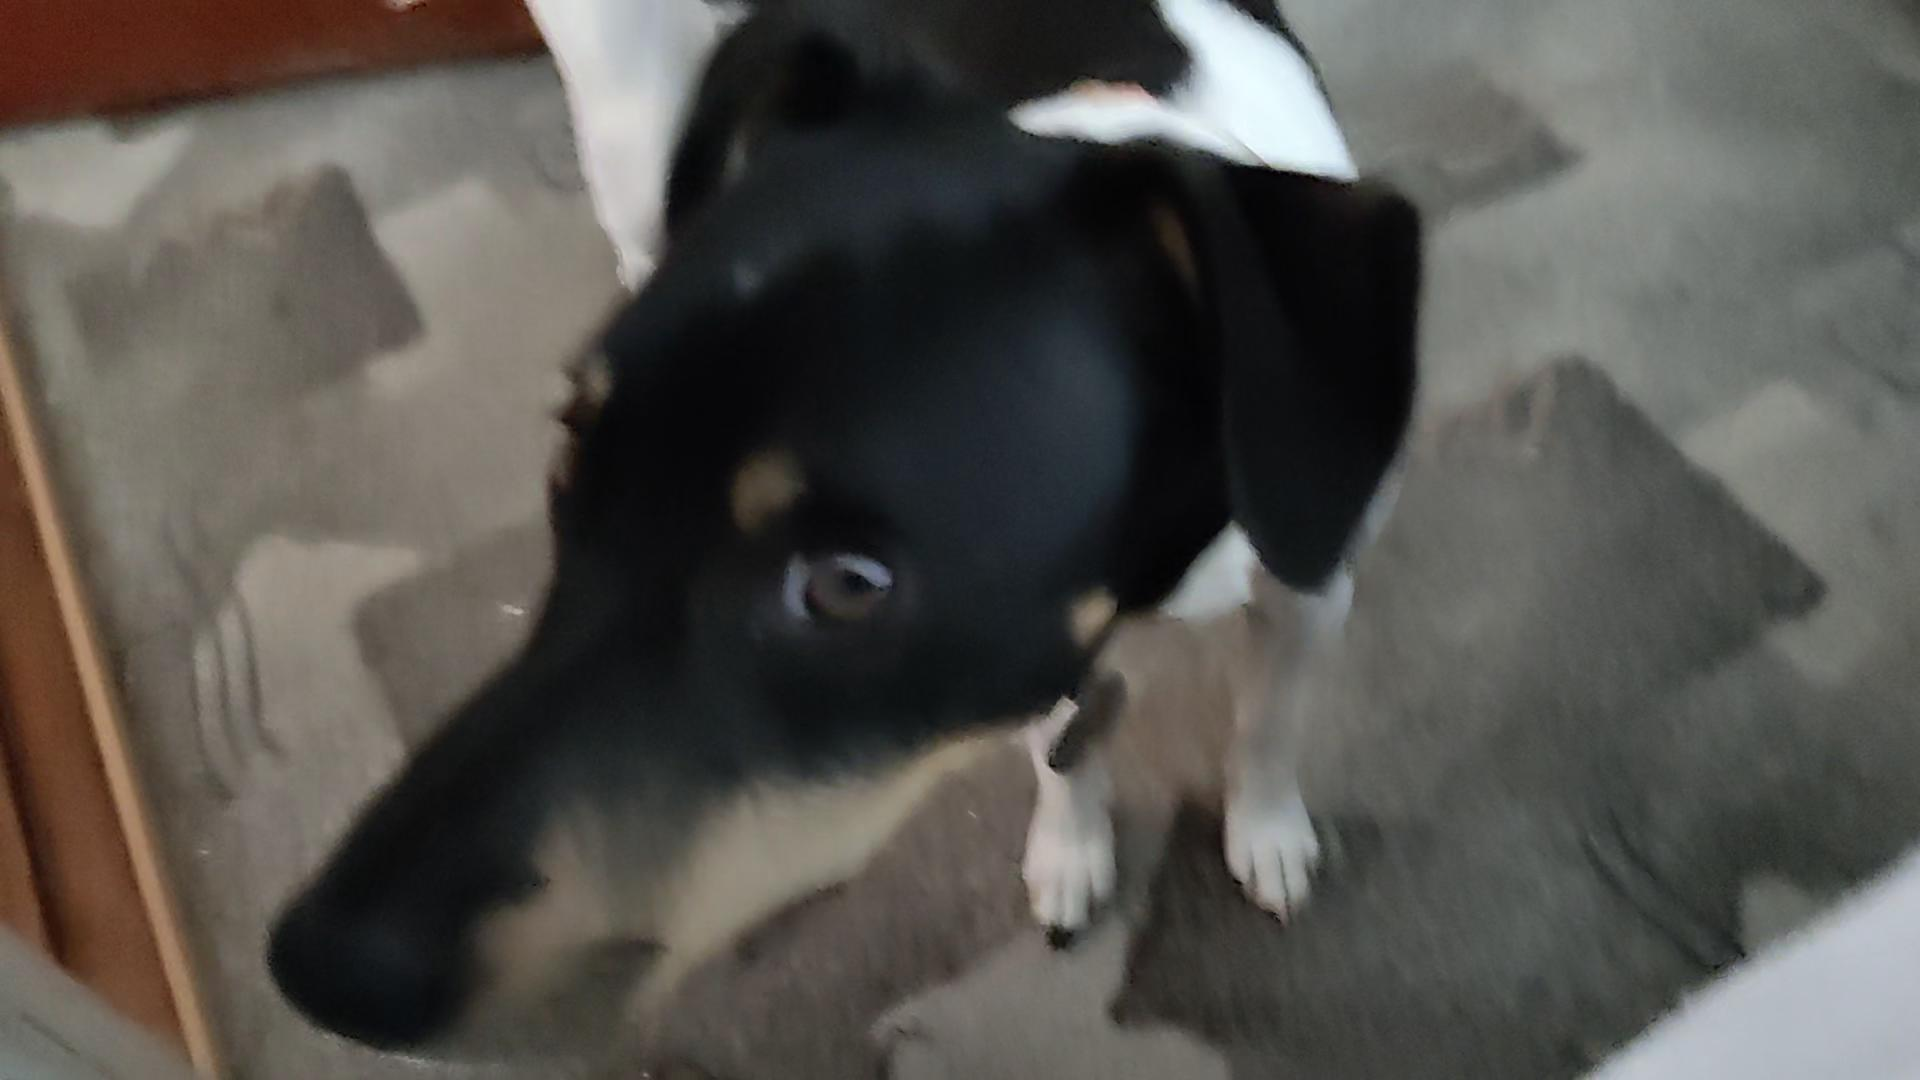Dog: (247, 0, 1447, 1063)
